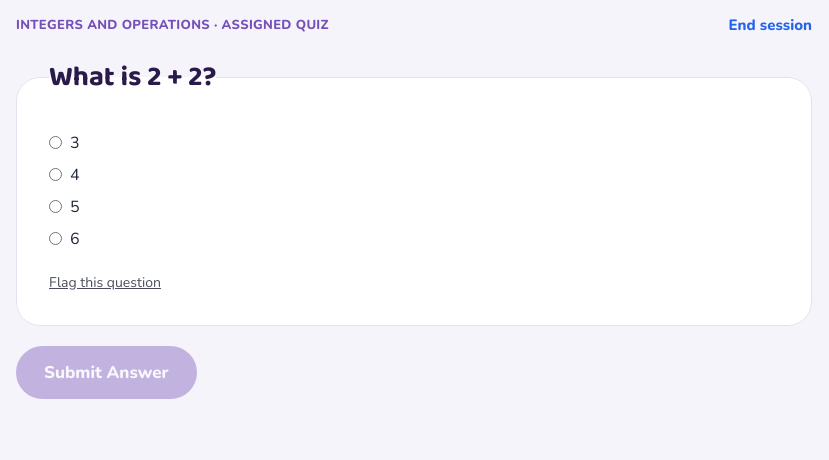
it: AssignmentFlow › shows a stopping-point prompt after the recommended count for the learner's grade band (spec 019 FR-009)
expect the text "What is 2 + 2?" is shown: met, box [49,56,216,98]
Click the radio button labelled "4": (56, 174) [49,168,62,181]
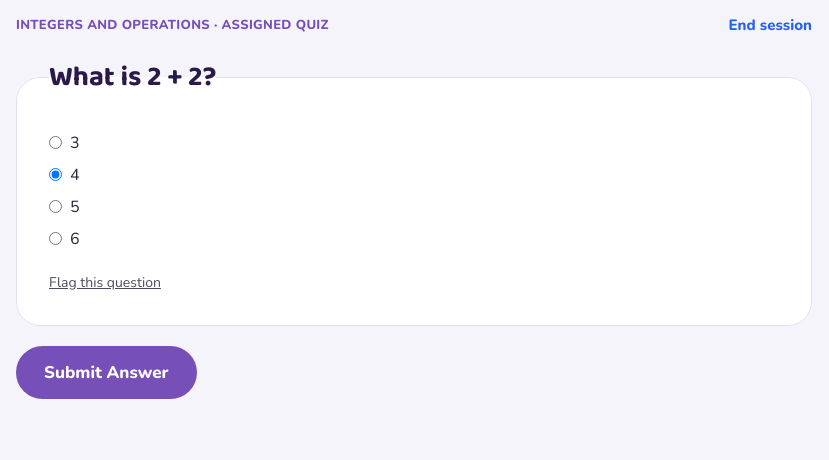
Click the button "Submit Answer": (106, 372) [16,346,196,399]
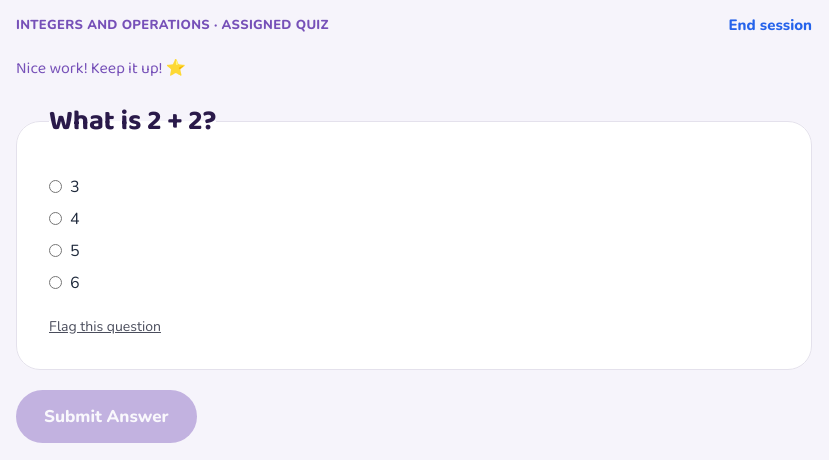
expect the text "What is 2 + 2?" is shown: met, box [49,100,216,142]
Click the radio button labelled "4": (56, 218) [49,212,62,225]
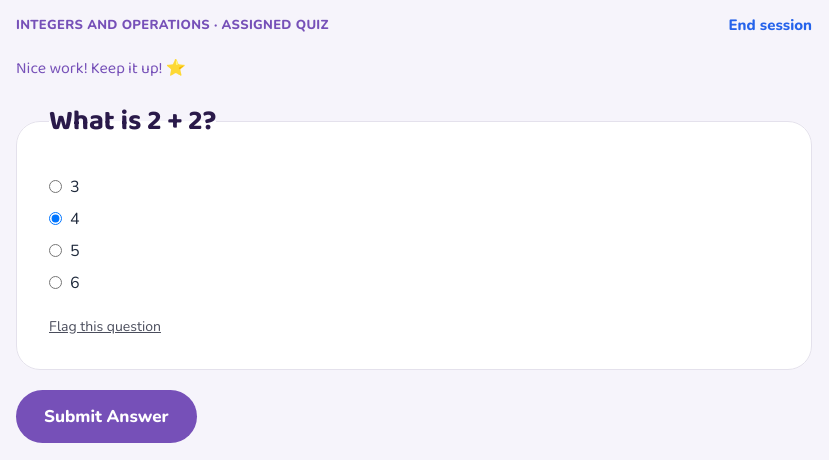
Click the button "Submit Answer": (106, 416) [16,390,196,443]
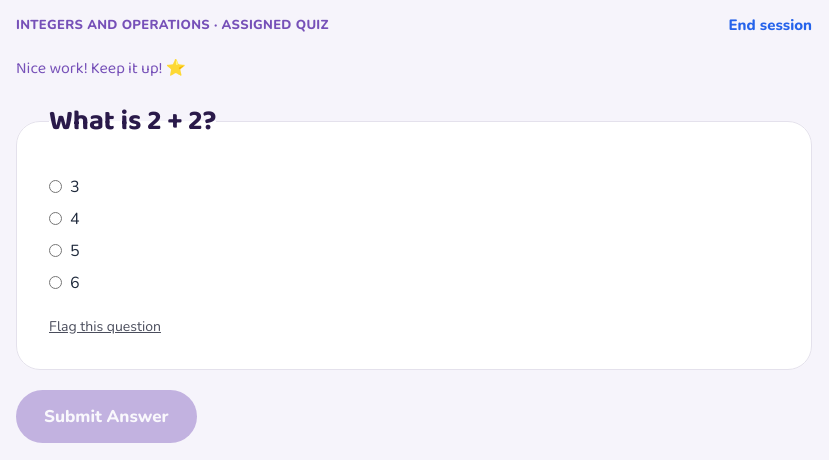
expect the text "What is 2 + 2?" is shown: met, box [49,100,216,142]
Click the radio button labelled "4": (56, 218) [49,212,62,225]
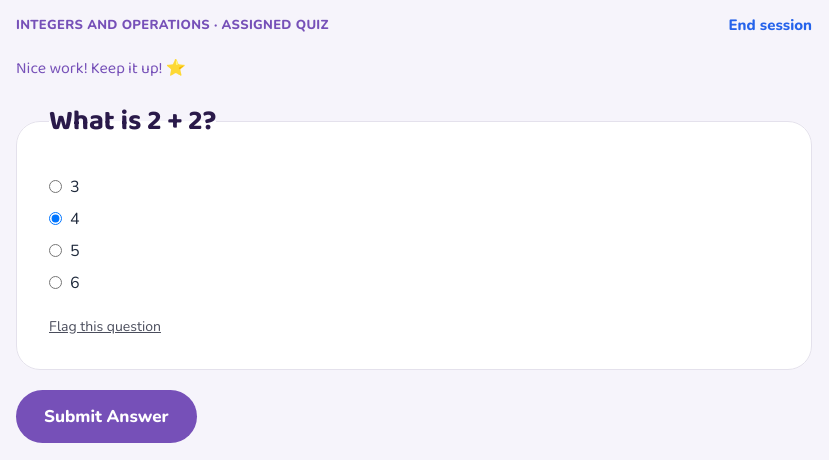
Click the button "Submit Answer": (106, 416) [16,390,196,443]
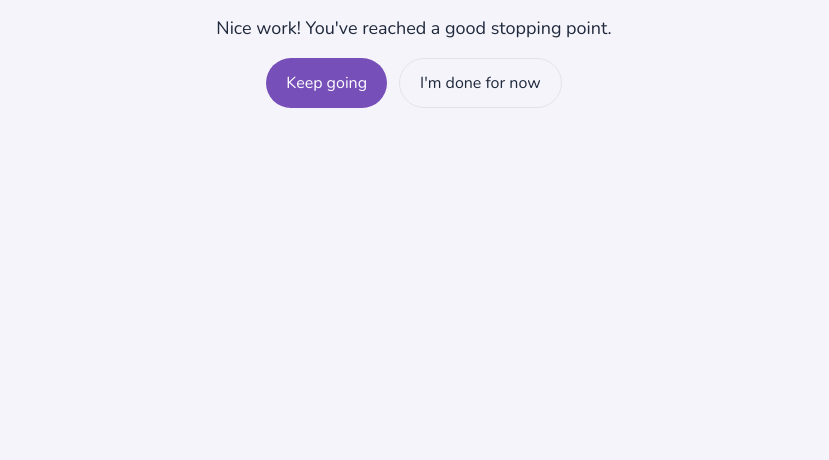
expect the element with test id "quiz-stopping-point" is shown: met, box [216,16,612,108]
expect the element with test id "question-card" is gone: met
